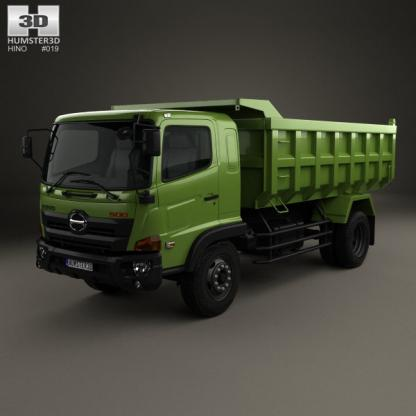dump_truck: (20, 84, 406, 324)
